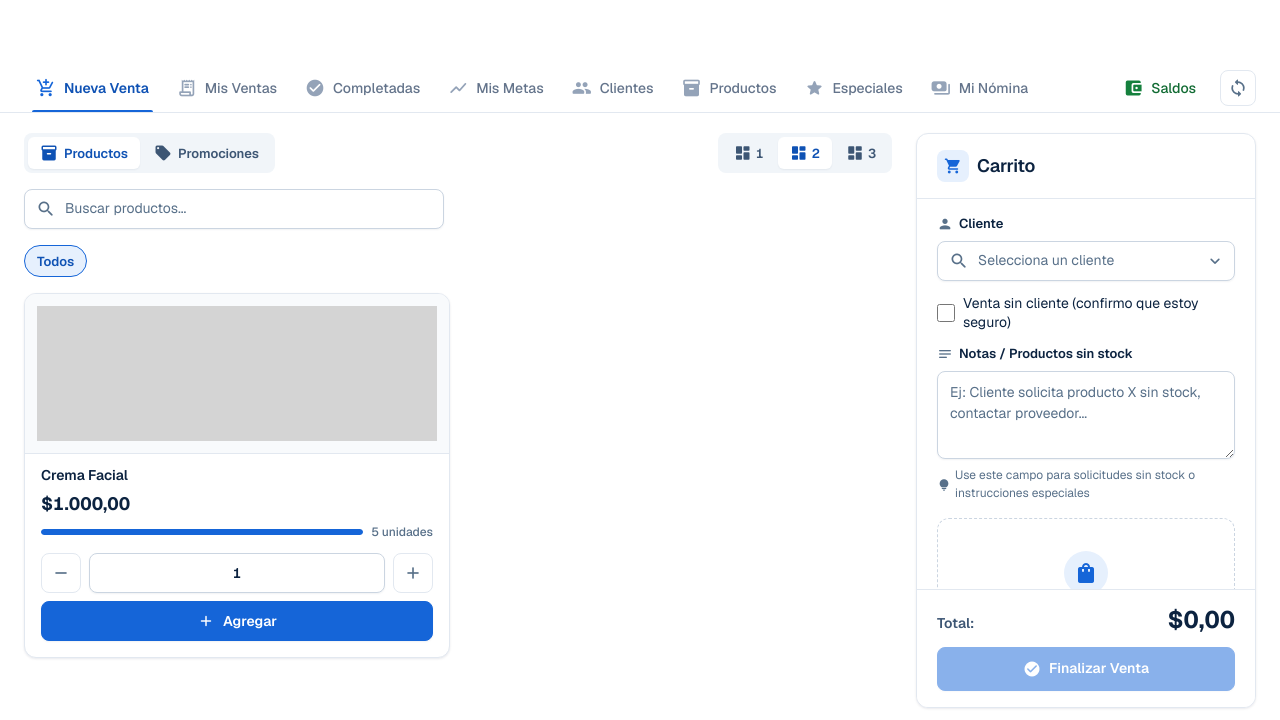
Test: las preferencias son de cada usuaria y lo guardado inválido vuelve al defecto
Expected: the heading "Crema Facial" is shown, x1=41 y1=466 x2=128 y2=485
Click the button "Mis Ventas": (227, 88) x1=165 y1=64 x2=289 y2=112
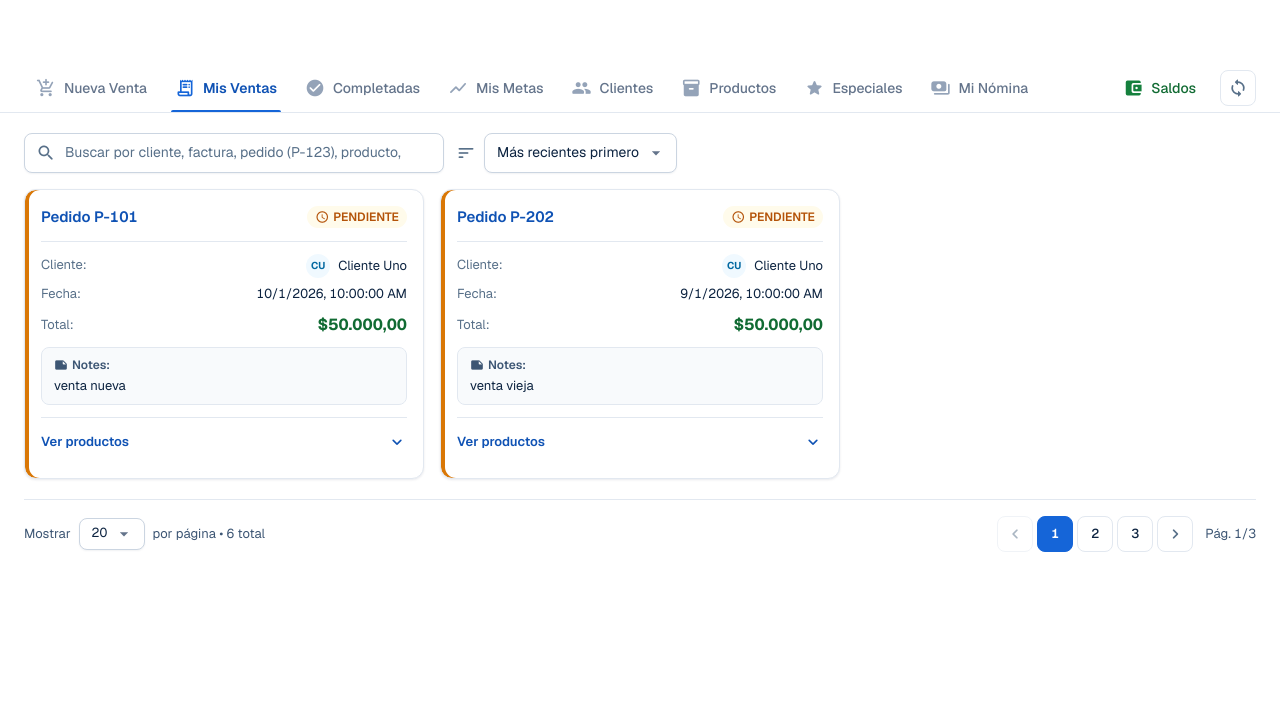
Expected: the text "venta nueva" is shown, x1=54 y1=377 x2=126 y2=394
Expected: the dropdown named "Ordenar por fecha" shows "Más recientes primero", x1=484 y1=133 x2=677 y2=173
